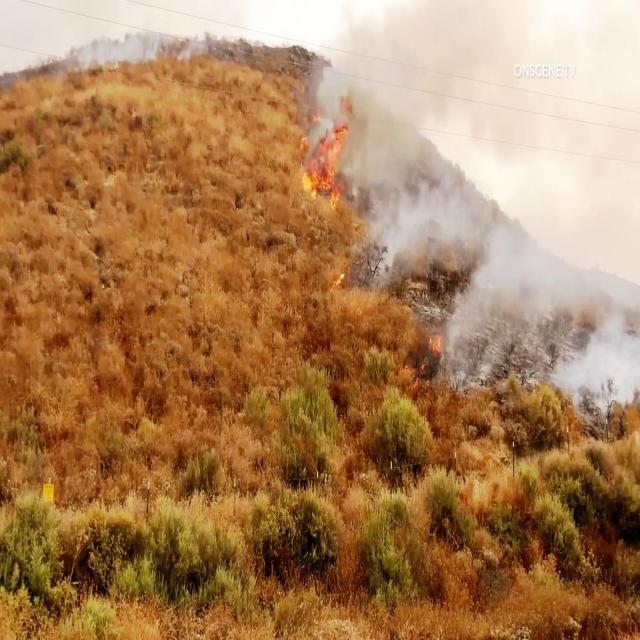Fire: (306, 114, 350, 220)
Smoke: (351, 0, 640, 413)
